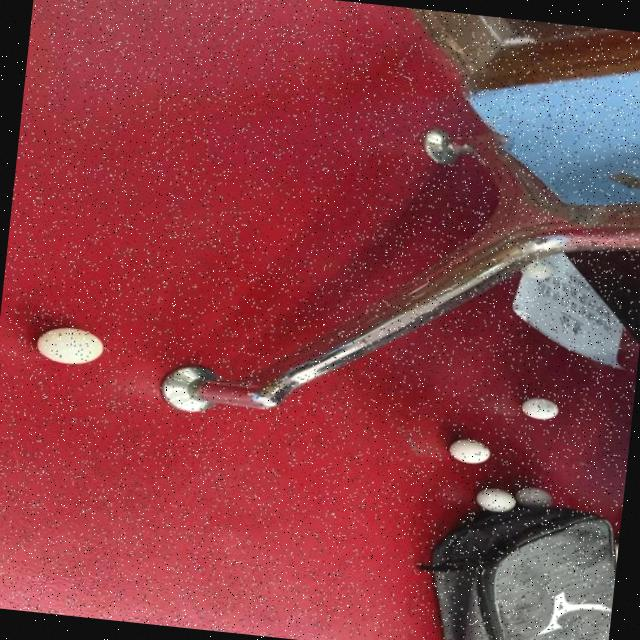ping-pong-ball: (24, 320, 108, 370), (462, 482, 524, 516), (441, 432, 496, 466), (514, 391, 561, 422), (512, 255, 557, 285)
